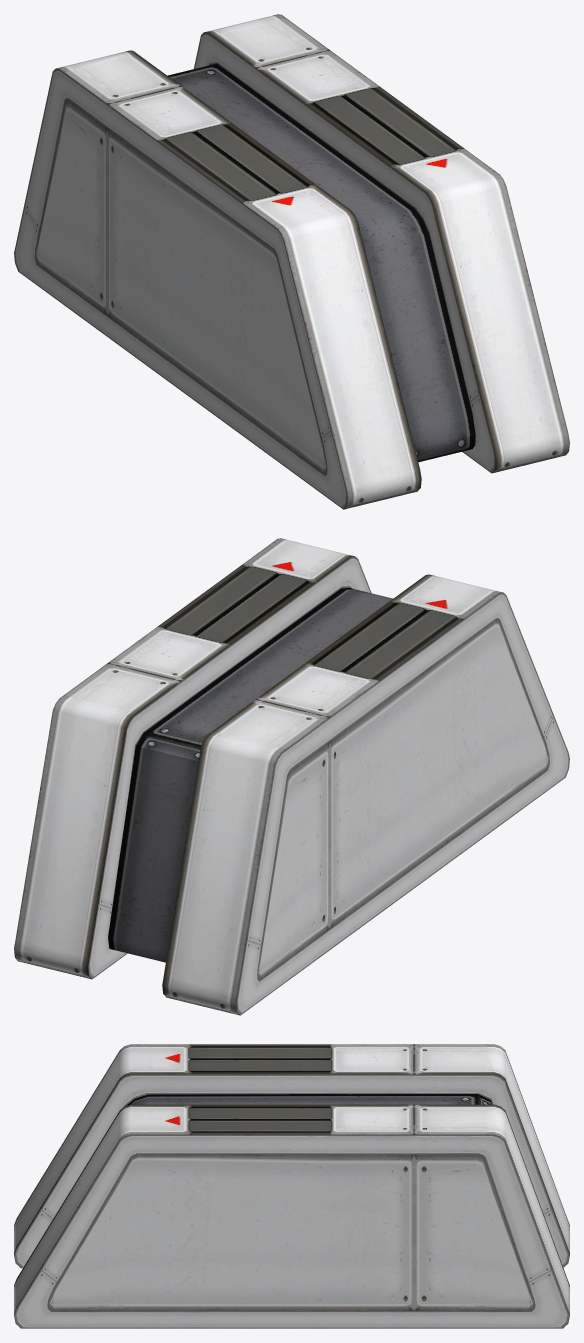
Rendered from Dock_Railpost.FBX.
3 renders of one model, top to bottom at view 1: azimuth 30°, elevation 25°; view 2: azimuth 150°, elevation 25°; view 3: azimuth 270°, elevation 25°, orthographic. The views are drawn at different scales.
Visible parts, largest first — view 1: Dock_Railpost; view 2: Dock_Railpost; view 3: Dock_Railpost.
Boxes of the visible parts, box(x1,y1,x2,y2) form: Dock_Railpost: box(14, 14, 569, 509); Dock_Railpost: box(14, 538, 569, 1015); Dock_Railpost: box(14, 1044, 569, 1328).
Bounding box in the file's own units: 1 × 1 × 2.6.
